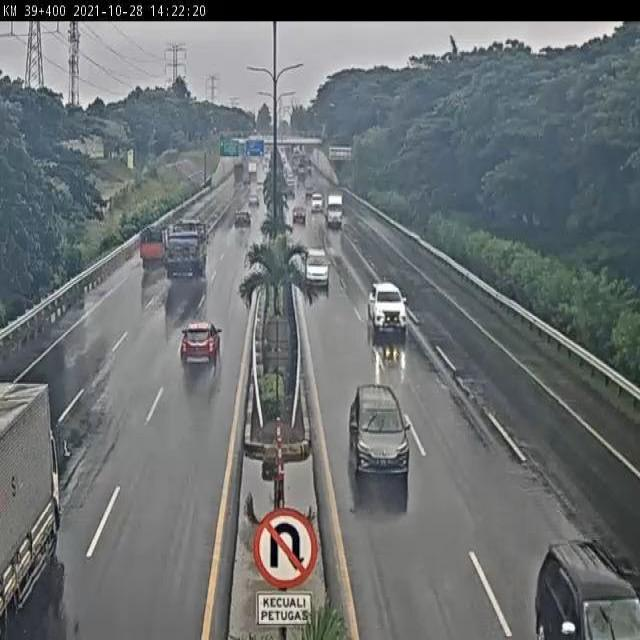car: (349, 380, 413, 481), (366, 278, 411, 334), (180, 320, 224, 372), (301, 241, 331, 287), (233, 206, 252, 230), (292, 203, 309, 225), (246, 187, 261, 209), (310, 192, 326, 212)
small truck: (139, 225, 169, 271)
truck-l-: (0, 378, 62, 630), (161, 218, 209, 278)
truck-s-: (324, 188, 346, 229)
